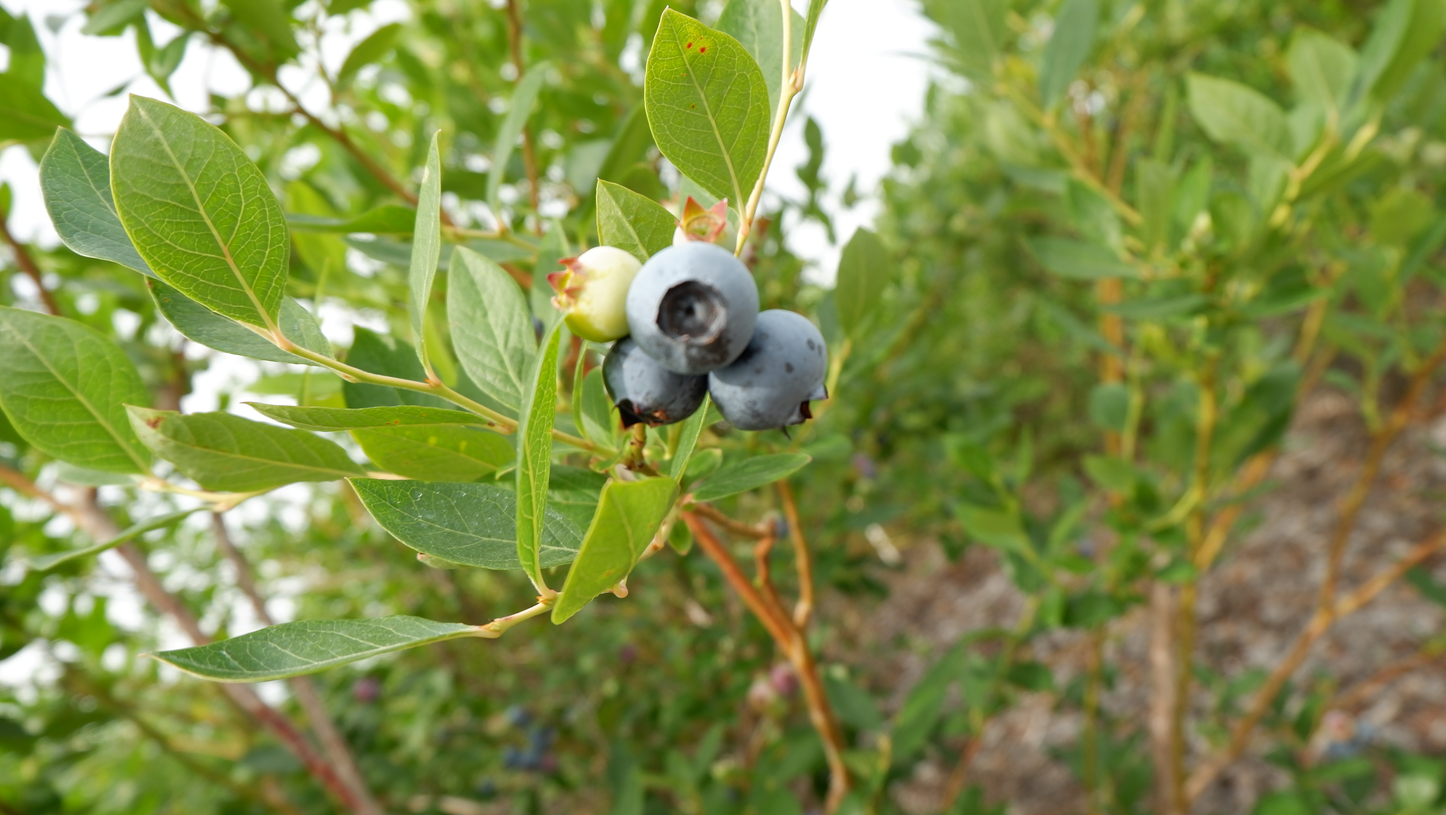Immature: (544, 246, 642, 343), (672, 196, 738, 253)
Mature: (625, 240, 759, 376), (708, 309, 829, 441), (601, 333, 709, 431)
